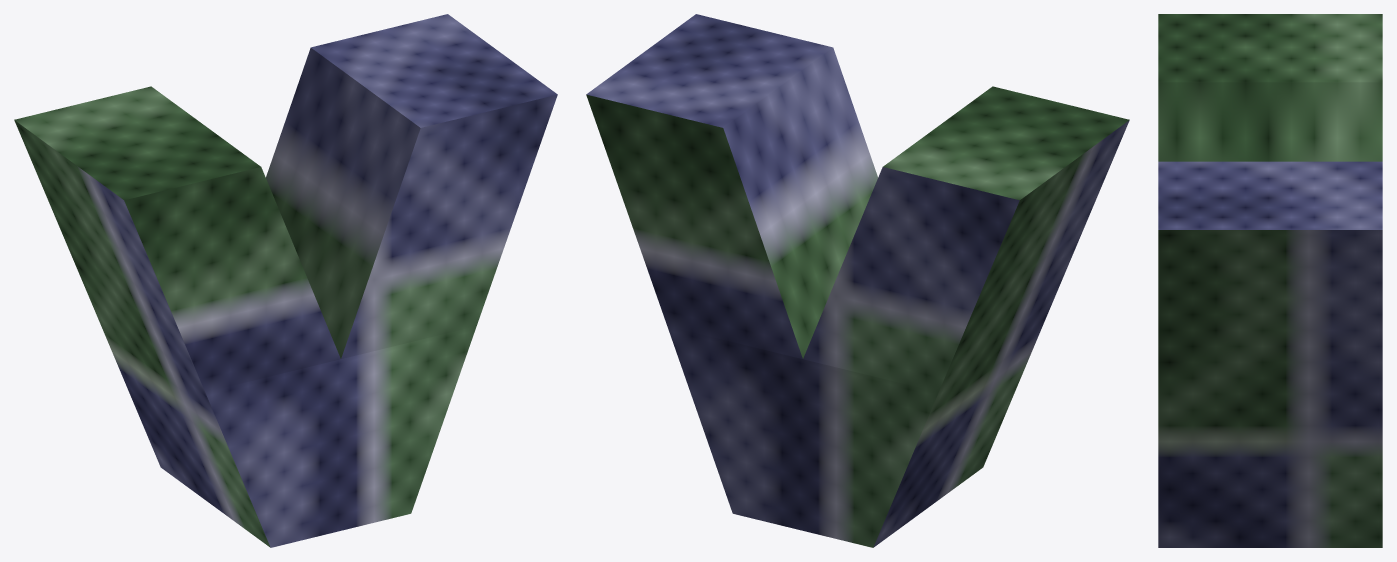
Rendered from Lettera_V.FBX.
The picture shows the model from 3 angles, left to right: view 1: azimuth 30°, elevation 25°; view 2: azimuth 150°, elevation 25°; view 3: azimuth 270°, elevation 25°; orthographic projection. The views are drawn at different scales.
Visible parts, largest first — view 1: LETTERA_V; view 2: LETTERA_V; view 3: LETTERA_V.
Boxes of the visible parts, x1,y1,x2,y2 form: LETTERA_V: (14,14,557,547); LETTERA_V: (586,14,1129,547); LETTERA_V: (1158,14,1382,547).
Bounding box in the file's own units: 228 × 192 × 100.
1 material, 1 textured.
